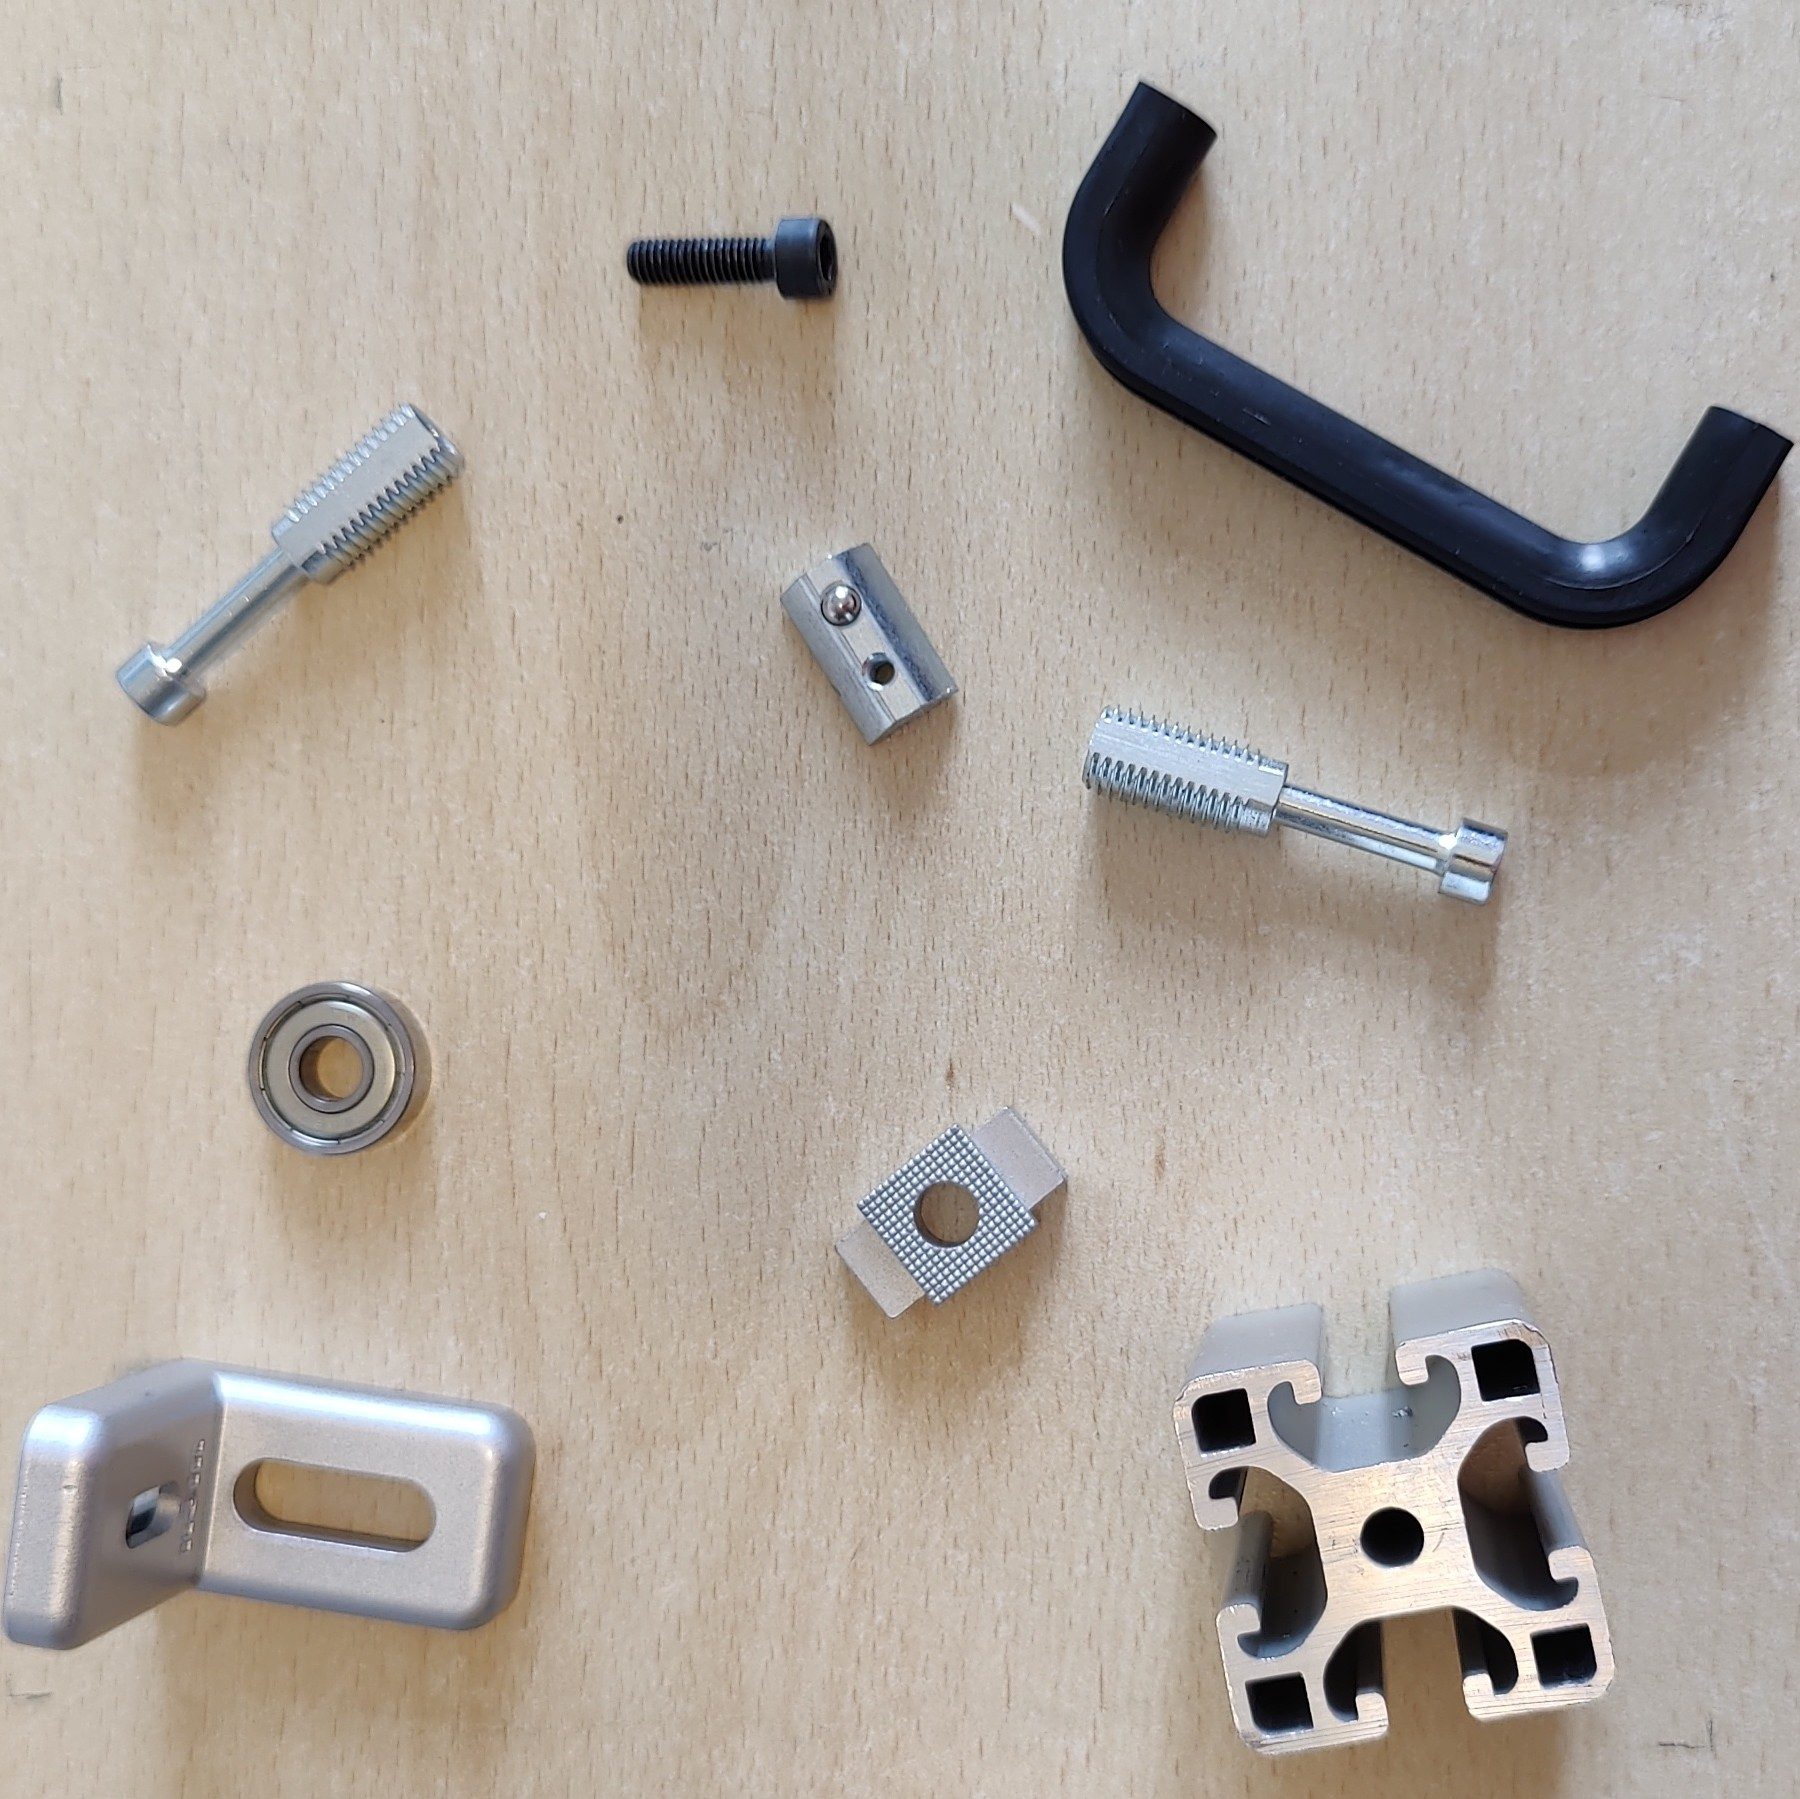Aluminium Extension: (1169, 1264, 1619, 1761)
Ball Bearing: (244, 977, 433, 1158)
Multiwinkel: (2, 1356, 539, 1652)
Pull Handle: (1059, 76, 1800, 633)
Shoulder Socket Head Cap Screw: (112, 395, 469, 731), (1079, 703, 1512, 909)
Socket Head Cap Screw: (624, 211, 840, 305)
T Nut Square: (828, 1099, 1070, 1321)
T Spring Nut: (777, 539, 962, 750)
